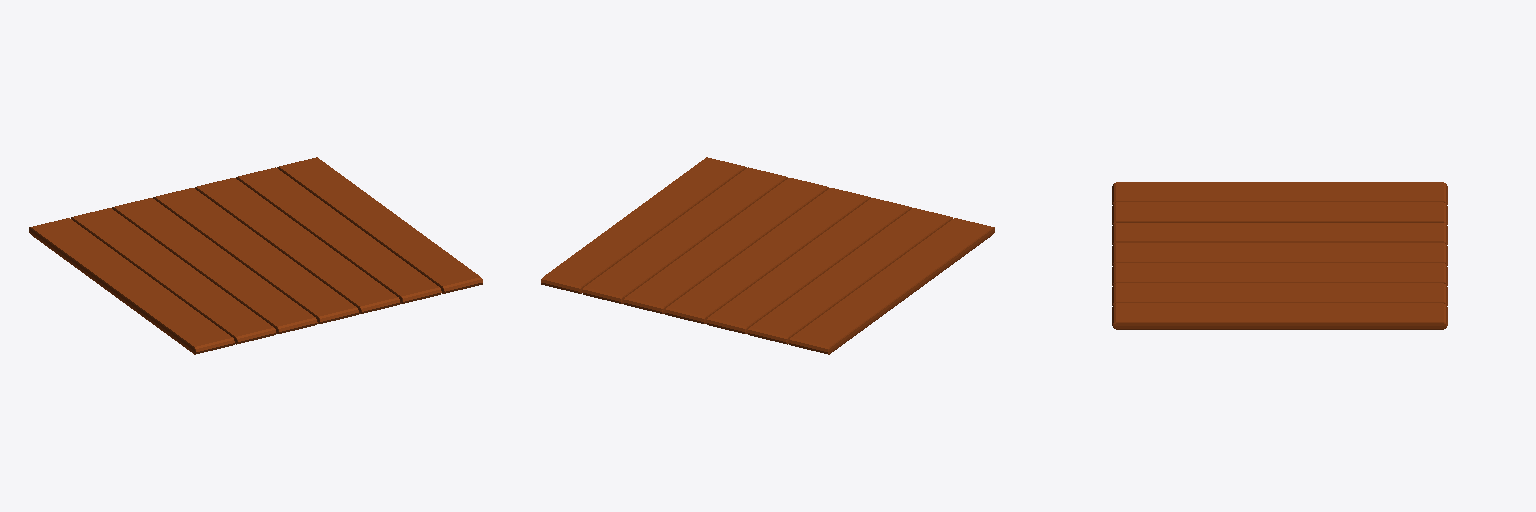
Rendered from Wood_floor.obj.
3 renders of one model, left to right at view 1: azimuth 30°, elevation 25°; view 2: azimuth 150°, elevation 25°; view 3: azimuth 270°, elevation 25°, orthographic.
Parts seen in each view (by area): view 1: Wood_floor_Plane.005; view 2: Wood_floor_Plane.005; view 3: Wood_floor_Plane.005.
Boxes of the visible parts, x1=… form: Wood_floor_Plane.005: x1=29, y1=157, x2=482, y2=354; Wood_floor_Plane.005: x1=541, y1=157, x2=994, y2=354; Wood_floor_Plane.005: x1=1112, y1=182, x2=1447, y2=329.
Size of the model in its own units: 7.91 by 0.2 by 7.99.